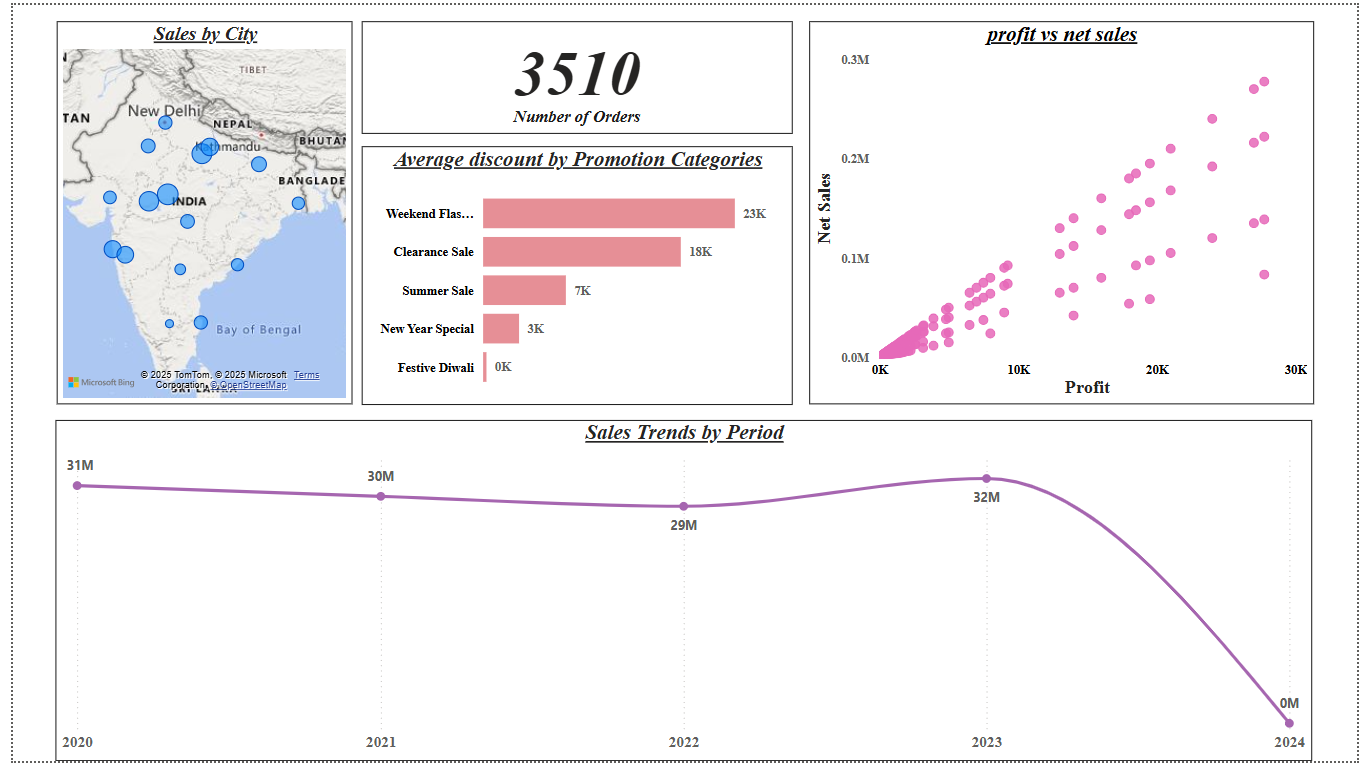

This screenshot's page, from the dashboard's own definition file:
{"tool":"powerbi","page":{"name":"Overview","canvas":[1280,720],"ordinal":0},"visuals":[{"type":"lineChart","title":"Sales Trends by Period","fields":{"Y":["Sum(fact table.net sales)"],"Category":["Data Table 1.Date.Variation.Date Hierarchy.Year","Data Table 1.Date.Variation.Date Hierarchy.Quarter","Data Table 1.Date.Variation.Date Hierarchy.Month","Data Table 1.Date.Variation.Date Hierarchy.Day"]},"box":[40.7,395.3,1196.5,324.4],"z":0},{"type":"scatterChart","title":"profit vs net sales","fields":{"X":["fact table.profit"],"Y":["fact table.net sales"]},"box":[758.5,15.9,480.5,364.6],"z":1000},{"type":"barChart","title":"Average  discount  by Promotion Categories","fields":{"Y":["Avg(fact table.discount value)"],"Category":["Dim Promotion.Promotion Name"]},"box":[332.1,134.5,410.7,246.4],"z":2000},{"type":"map","title":"Sales by City","fields":{"Category":["Dim Customers.City"],"Size":["Sum(fact table.net sales)"]},"box":[41.5,15.9,281.7,364.6],"z":3000},{"type":"card","fields":{"Values":["CountNonNull(fact table.Order ID)"]},"box":[332.1,15.5,410.7,107.1],"z":4000}]}

Visuals, with their boxes in screenshot pixels (x1, y1, x2, y2), scaled from the page's 1280x720 canvas onto the 1369x773 screenshot:
"Sales Trends by Period" lineChart: (left=44, top=424, right=1323, bottom=772)
"profit vs net sales" scatterChart: (left=811, top=17, right=1325, bottom=409)
"Average  discount  by Promotion Categories" barChart: (left=355, top=144, right=794, bottom=409)
"Sales by City" map: (left=44, top=17, right=346, bottom=409)
card - CountNonNull(fact table.Order ID): (left=355, top=17, right=794, bottom=132)
